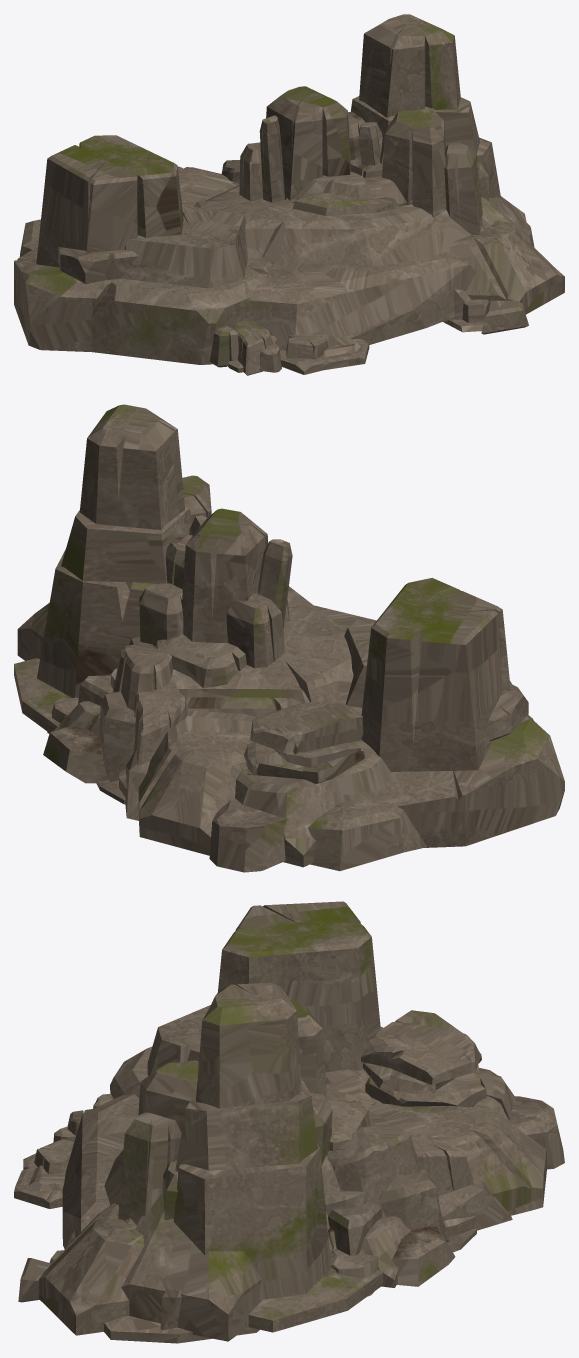
File: bigrock2.fbx
3 views of the same model, one above another, from view 1: azimuth 30°, elevation 25°; view 2: azimuth 150°, elevation 25°; view 3: azimuth 270°, elevation 25° (orthographic). The views are drawn at different scales.
Visible parts, largest first — view 1: Cube.013; view 2: Cube.013; view 3: Cube.013.
Boxes of the visible parts, x1=… form: Cube.013: x1=14, y1=14, x2=564, y2=375; Cube.013: x1=14, y1=404, x2=564, y2=872; Cube.013: x1=14, y1=901, x2=564, y2=1343.
Bounding box in the file's own units: 2598 × 1283 × 2108.
Materials: 1 (1 with a texture image).
